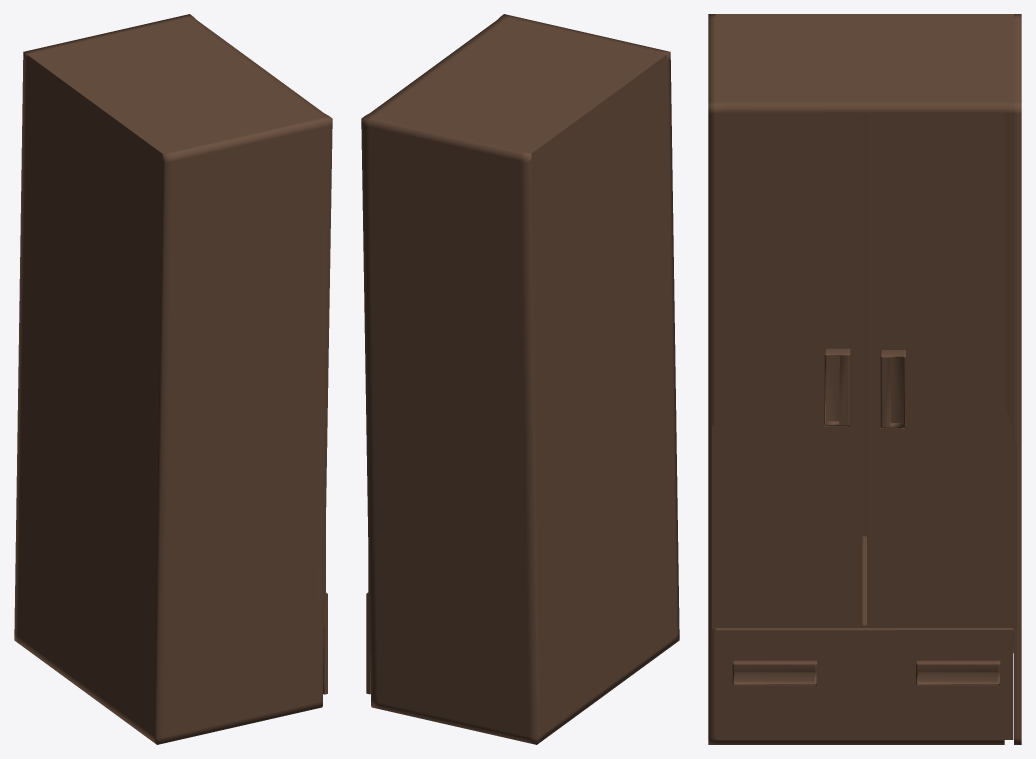
Rendered from CabinetDrawer.fbx.
3 renders of one model, left to right at view 1: azimuth 30°, elevation 25°; view 2: azimuth 150°, elevation 25°; view 3: azimuth 270°, elevation 25°, orthographic. The views are drawn at different scales.
Parts seen in each view (by area): view 1: pCube40; view 2: pCube40; view 3: polySurface32, polySurface31, pCube40, polySurface28.
Boxes of the visible parts, x1,y1,x2,y2 form: pCube40: (14,14,332,744); pCube40: (361,14,679,744); polySurface32: (712,113,862,629); polySurface31: (867,113,1017,628); pCube40: (708,14,1021,744); polySurface28: (715,628,1013,739).
Bounding box in the file's own units: 62.89 × 195 × 85.83.
